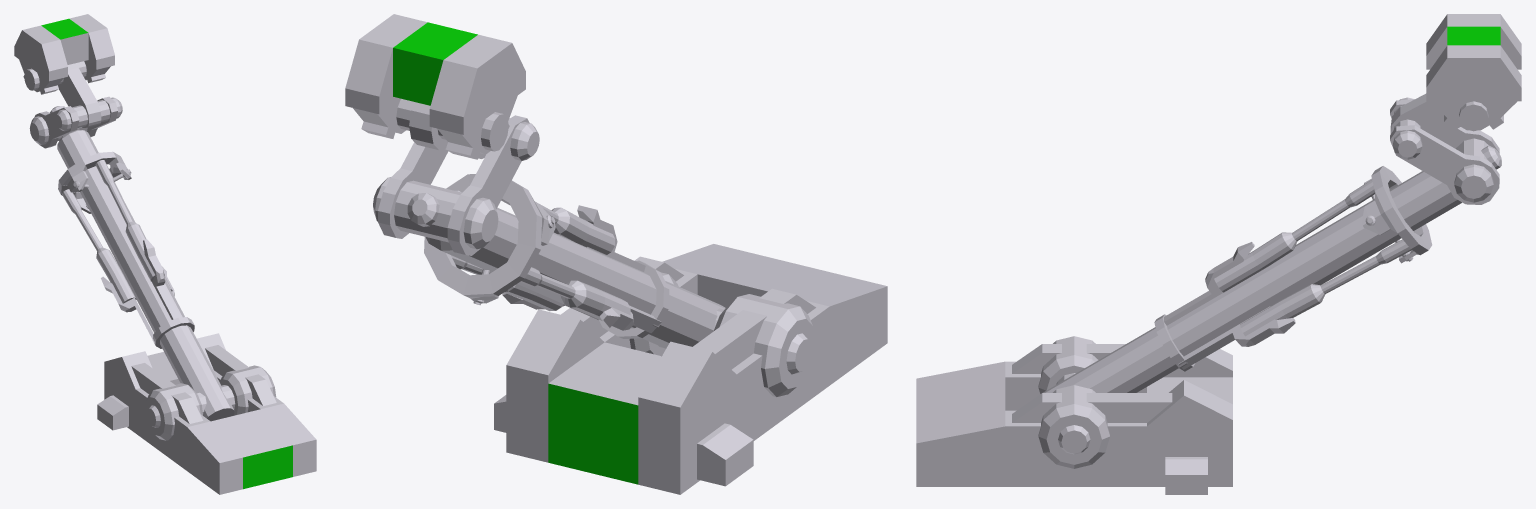
File: part.strut.cylindar.fbx
The picture shows the model from 3 angles, left to right: view 1: azimuth 30°, elevation 25°; view 2: azimuth 150°, elevation 25°; view 3: azimuth 270°, elevation 25°; orthographic projection. The views are drawn at different scales.
Parts seen in each view (by area): view 1: part.strut.cylindar; view 2: part.strut.cylindar; view 3: part.strut.cylindar.
Boxes of the visible parts, x1,y1,x2,y2 form: part.strut.cylindar: [14, 14, 316, 494]; part.strut.cylindar: [345, 14, 887, 494]; part.strut.cylindar: [916, 14, 1521, 494].
Bounding box in the file's own units: 1.79 × 4.04 × 5.29.
